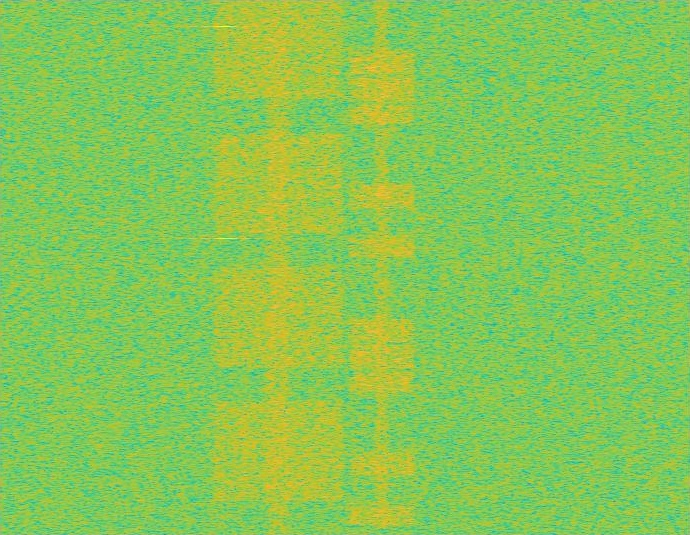5G: (209, 0, 347, 534)
DSSS: (263, 0, 294, 534), (374, 0, 390, 534)
LTE: (347, 0, 416, 534)
Radar: (219, 0, 233, 534)
